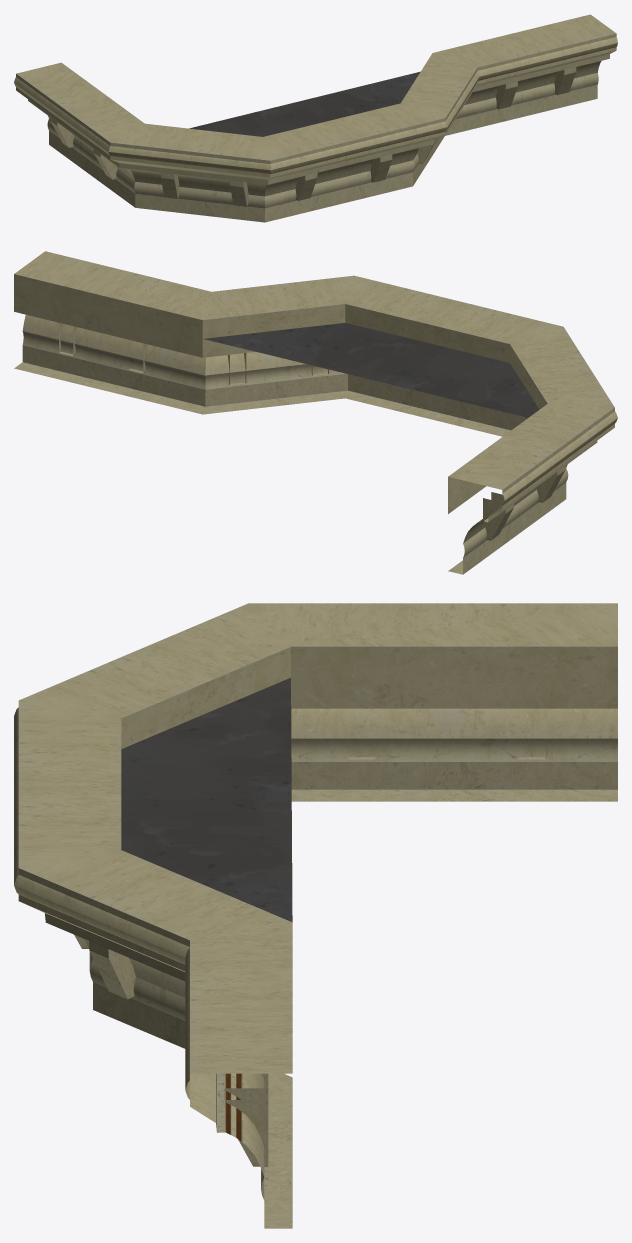
The model's file is Trim_BayWindow_Corner_L.gltf.
3 views of the same model, one above another, from view 1: azimuth 30°, elevation 25°; view 2: azimuth 150°, elevation 25°; view 3: azimuth 270°, elevation 25° (orthographic). The views are drawn at different scales.
Parts seen in each view (by area): view 1: Trim_BayWindow_Corner_L; view 2: Trim_BayWindow_Corner_L; view 3: Trim_BayWindow_Corner_L.
Boxes of the visible parts, bbox=[...] form: Trim_BayWindow_Corner_L: bbox=[14, 14, 617, 222]; Trim_BayWindow_Corner_L: bbox=[14, 251, 617, 574]; Trim_BayWindow_Corner_L: bbox=[14, 603, 617, 1228].
Size of the model in its own units: 6.53 by 0.9984 by 3.53.
2 materials, 2 textured.
